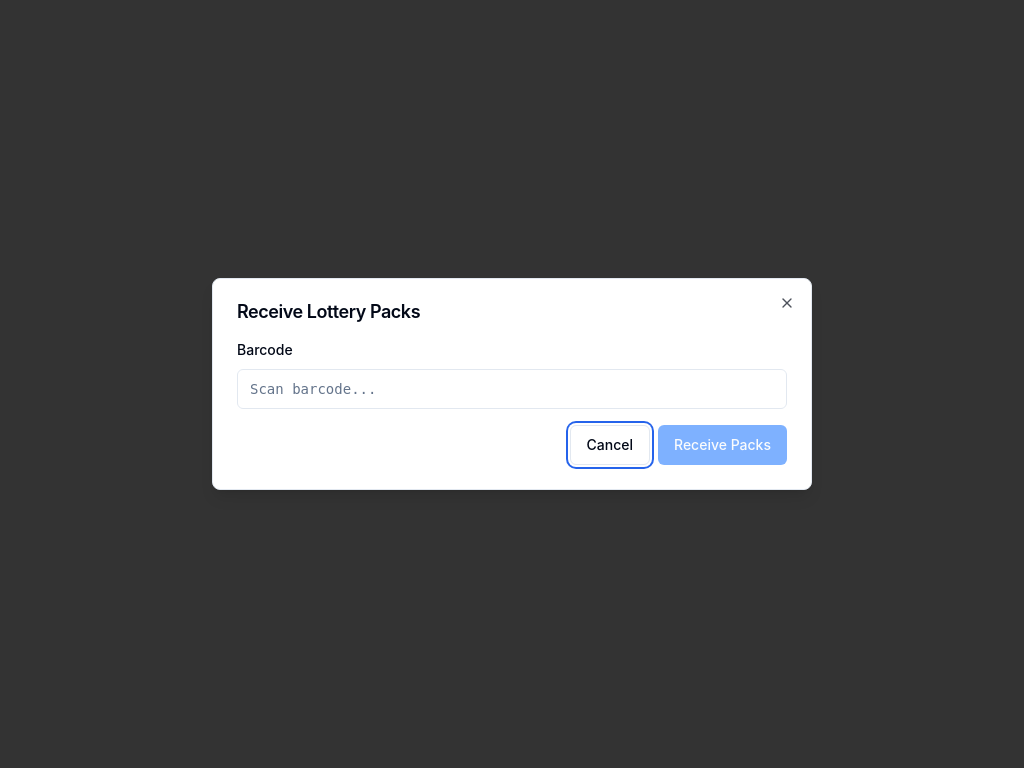
6.12-COMPONENT: PackReceptionForm (Serialized Input) › Rendering › 6.12-COMPONENT-011: [P1] should accept only numeric input (AC #1)
In the field with placeholder "Scan barcode...": (512, 389) [237,369,787,409], type "abc123def"
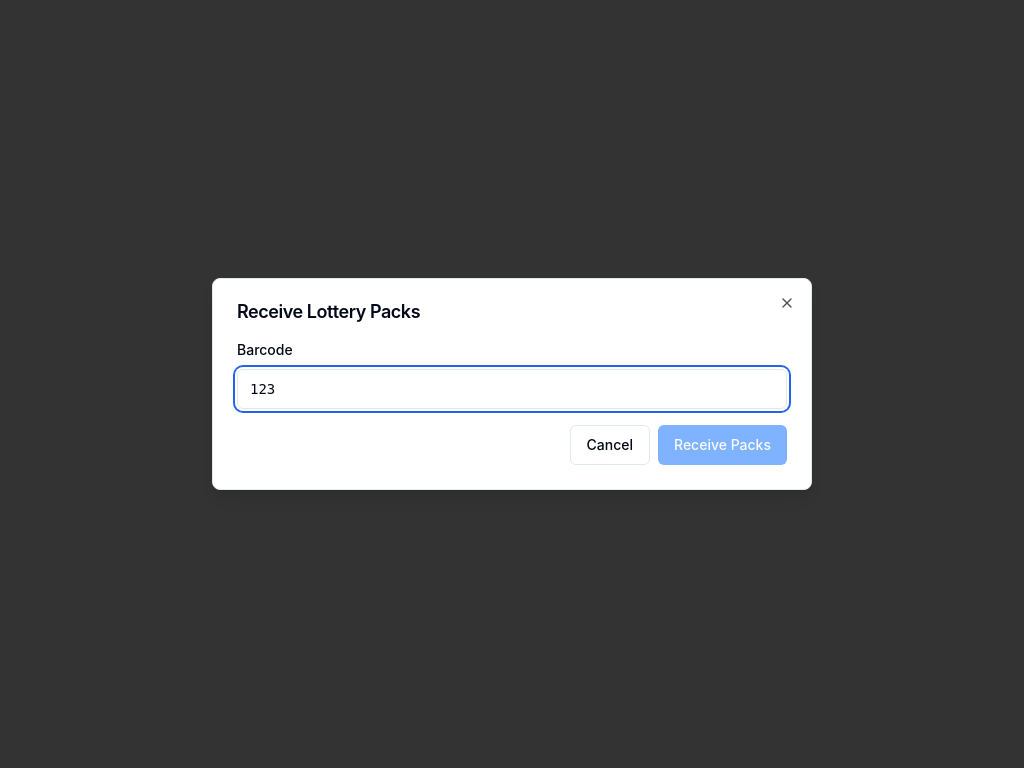
Now the field with placeholder "Scan barcode..." holds "123", box [237,369,787,409]
